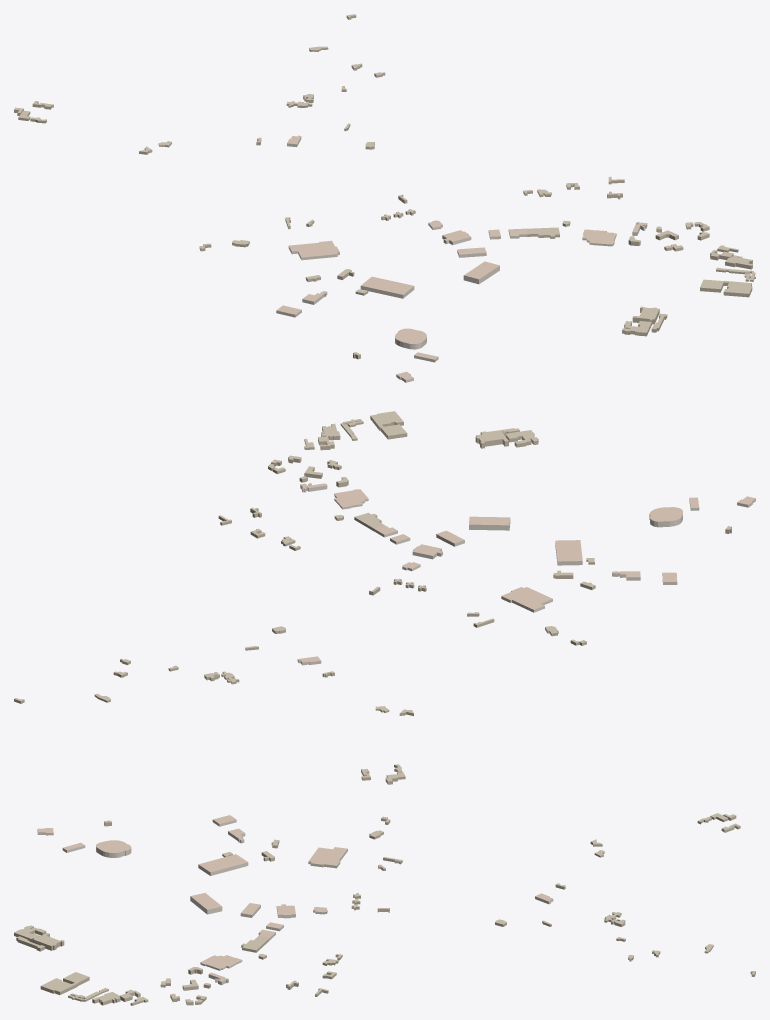
3 renders of one model, top to bottom at view 1: azimuth 30°, elevation 25°; view 2: azimuth 150°, elevation 25°; view 3: azimuth 270°, elevation 25°, orthographic. The views are drawn at different scales.
Size of the model in its own units: 1476 by 30.05 by 2462.
